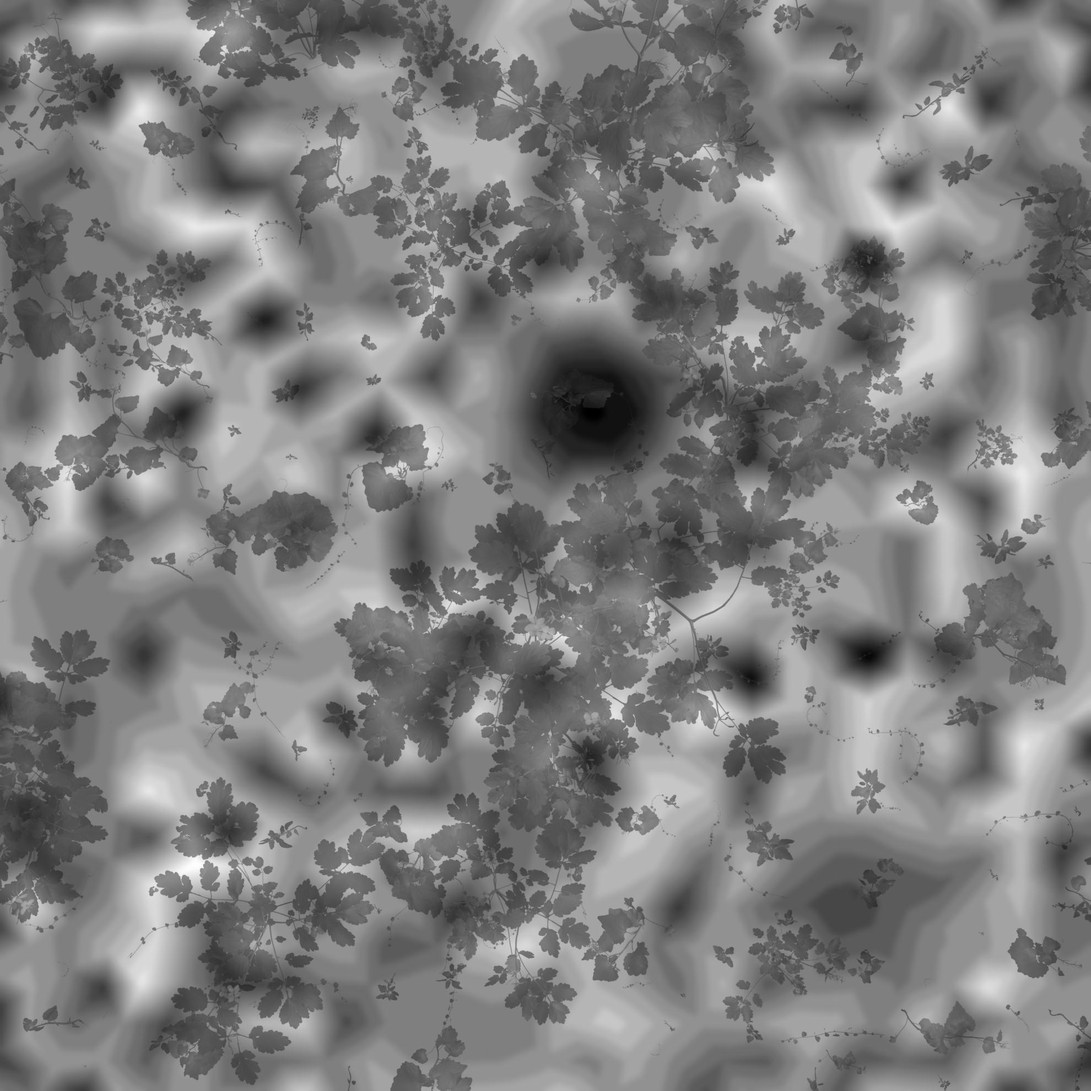landmine: (511, 333, 658, 491), (791, 857, 905, 954)
